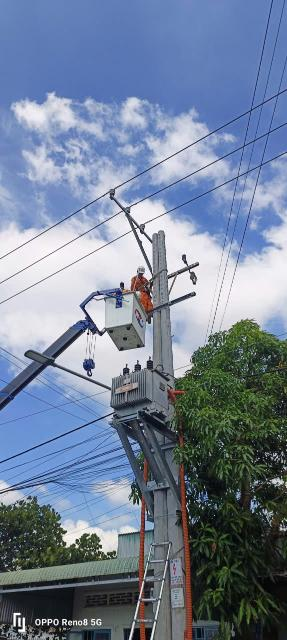helmet: (137, 265, 148, 275), (133, 291, 143, 299)
